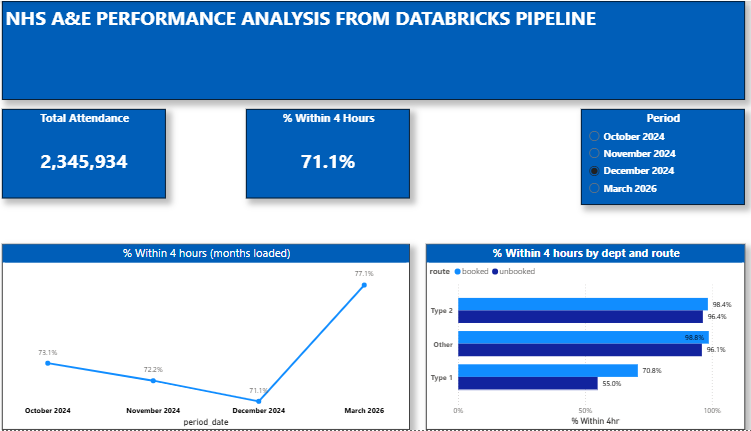

What the dashboard file says about the page in this screenshot:
{"tool":"powerbi","page":{"name":"National Overview","canvas":[1280,720],"ordinal":0},"visuals":[{"type":"textbox","box":[10.1,0,1248.1,166.3],"z":0},{"type":"slicer","title":"Period ","fields":{"Values":["national_by_type.period_date"]},"box":[982.7,181.4,275.5,161.3],"z":1},{"type":"card","title":"Total Attendance","fields":{"Values":["national_by_type.Total Attendances"]},"box":[10.1,181.4,275.5,149.5],"z":2},{"type":"card","title":"% Within 4 Hours","fields":{"Values":["national_by_type.% Within 4hr"]},"box":[419.9,181.4,275.5,149.5],"z":3},{"type":"lineChart","title":"% Within 4 hours (months loaded)","fields":{"Category":["national_by_type.period_date"],"Y":["national_by_type.% Within 4hr"]},"box":[10.1,408.2,685.4,312.4],"z":4},{"type":"clusteredBarChart","title":"% Within 4 hours by dept and route","fields":{"Category":["national_by_type.dept_type"],"Y":["national_by_type.% Within 4hr"],"Series":["national_by_type.route"]},"box":[722.3,408.2,535.9,312.4],"z":5}]}

Visuals, with their boxes in screenshot pixels (x1, y1, x2, y2), scaled from the page's 1280x720 canvas onto the 751x431 screenshot:
textbox: bbox=(6, 0, 738, 100)
"Period " slicer: bbox=(577, 109, 738, 205)
"Total Attendance" card: bbox=(6, 109, 168, 198)
"% Within 4 Hours" card: bbox=(246, 109, 408, 198)
"% Within 4 hours (months loaded)" lineChart: bbox=(6, 244, 408, 430)
"% Within 4 hours by dept and route" clusteredBarChart: bbox=(424, 244, 738, 430)
